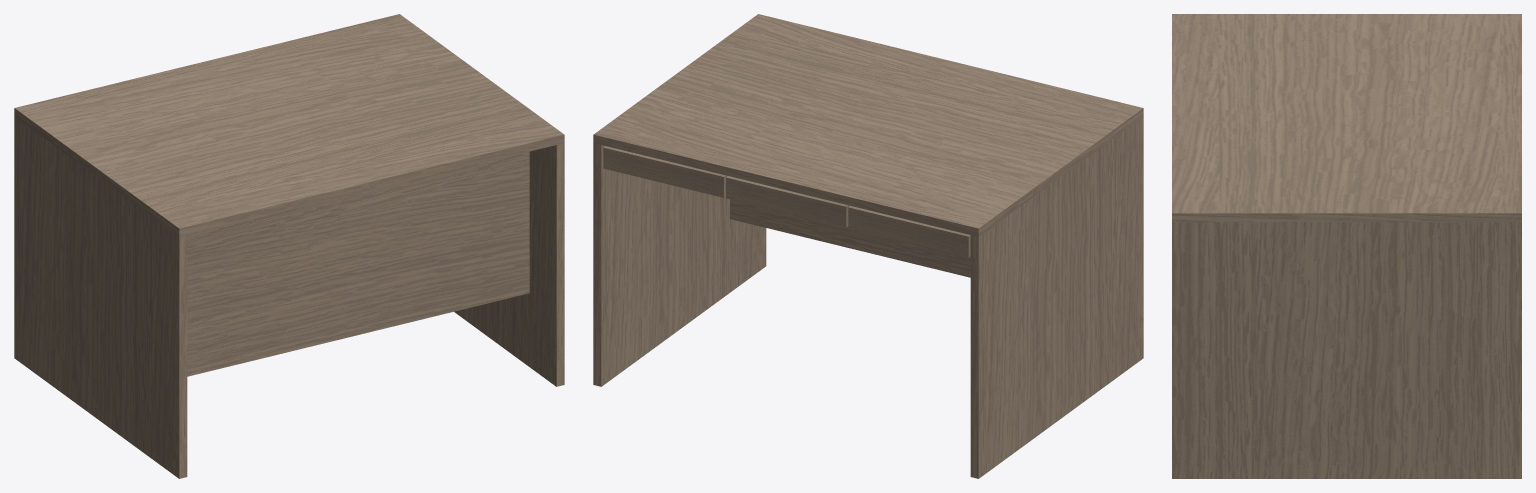
File: kaede_desk.obj
3 renders of one model, left to right at view 1: azimuth 30°, elevation 25°; view 2: azimuth 150°, elevation 25°; view 3: azimuth 270°, elevation 25°, orthographic. The views are drawn at different scales.
Parts seen in each view (by area): view 1: Cube_0, Cube.003_0, Cube.001_0, Cube.002_0; view 2: Cube_0, Cube.001_0, Cube.002_0, Cube.003_0, Cube.004_0, Cube.005_0, Cube.006_0; view 3: Cube.002_0, Cube_0.
Boxes of the visible parts, box(x1,y1,x2,y2) form: Cube_0: box(14, 14, 564, 236); Cube.003_0: box(187, 151, 529, 376); Cube.001_0: box(14, 116, 187, 478); Cube.002_0: box(454, 143, 564, 386); Cube_0: box(593, 14, 1143, 236); Cube.001_0: box(970, 116, 1143, 478); Cube.002_0: box(593, 143, 766, 386); Cube.003_0: box(730, 199, 970, 277); Cube.004_0: box(603, 146, 727, 197); Cube.005_0: box(848, 206, 970, 257); Cube.006_0: box(726, 176, 849, 227); Cube.002_0: box(1172, 222, 1521, 478); Cube_0: box(1172, 14, 1521, 222).
Bounding box in the file's own units: 27.88 × 17.31 × 20.66.
Materials: 1 (1 with a texture image).
